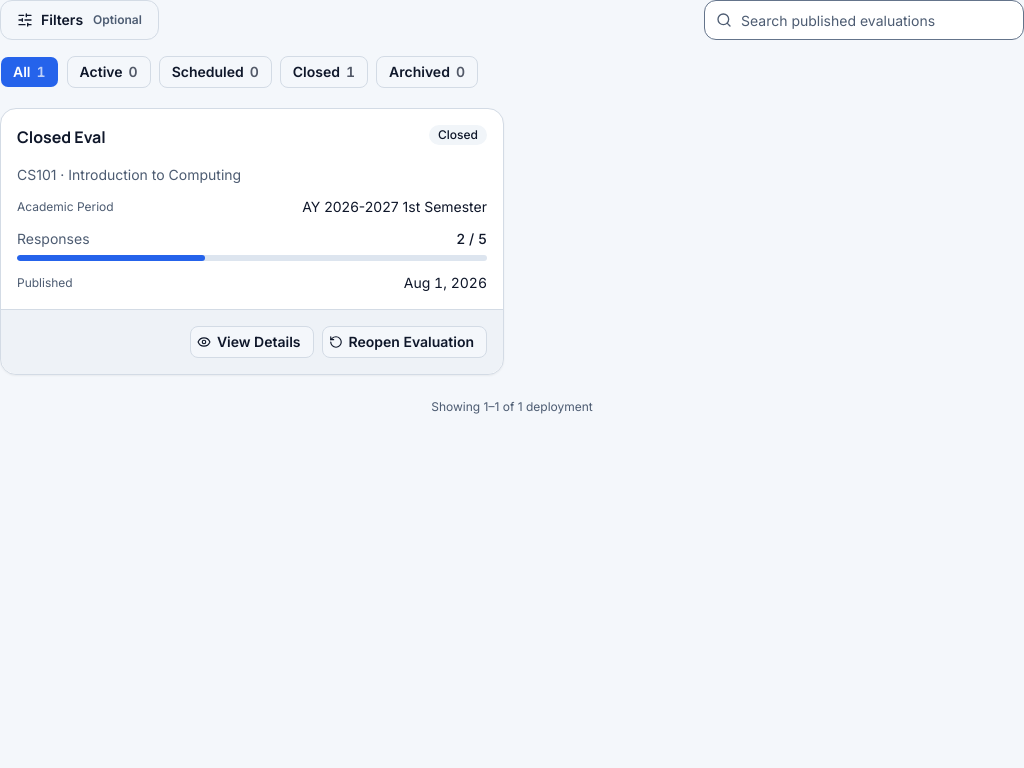
Test: FacultyPublishedEvaluations › requires a new deadline and reopens a closed evaluation
The image size is (1024, 768).
Step 1. Click the button "Reopen Evaluation" → {"x": 404, "y": 342}, box [322, 326, 487, 358]
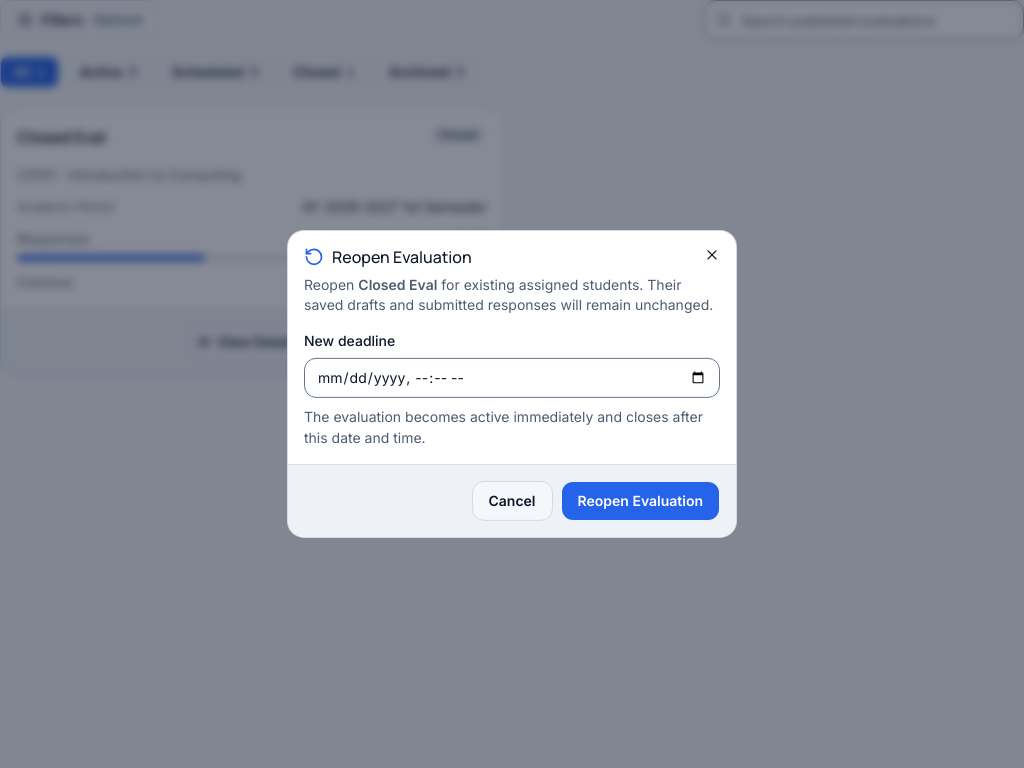
Step 2. Type "2000-01-01T00:00" into the field labelled "New deadline" → {"x": 512, "y": 378}, box [304, 358, 720, 398]
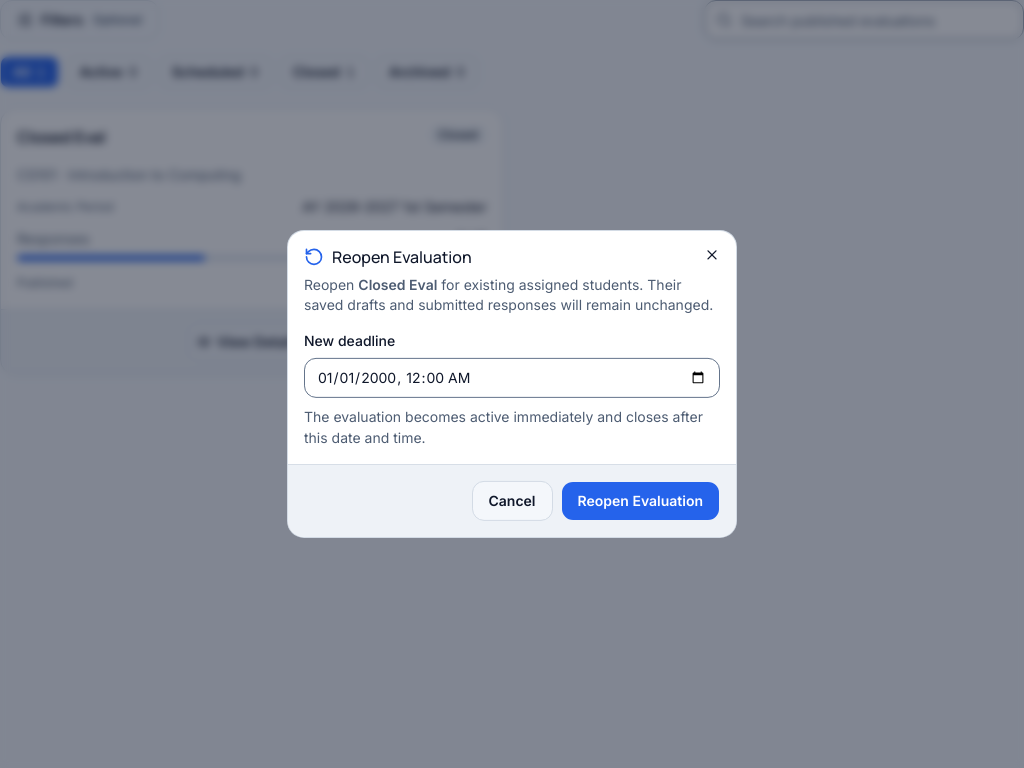
Step 3. Click the button "Reopen Evaluation" → {"x": 640, "y": 501}, box [560, 481, 720, 521]
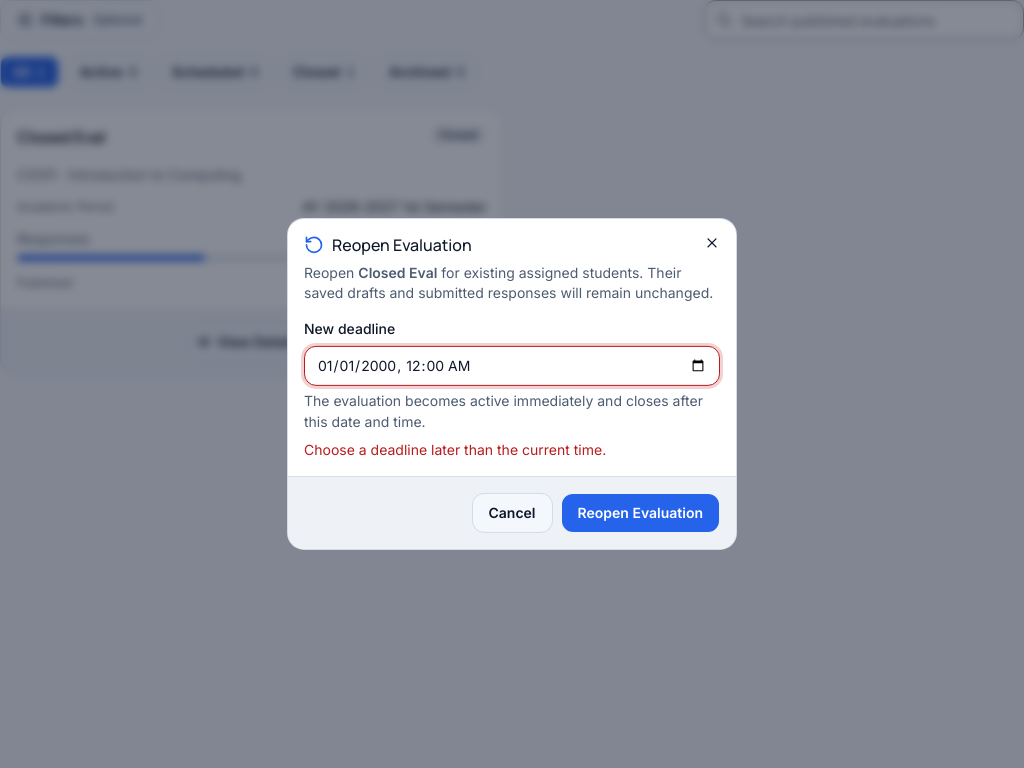
Result: the message shows "Choose a deadline" at [304, 441, 606, 458]
Step 4. Replace the text in the field labelled "New deadline" with "2099-09-10T09:00" → {"x": 512, "y": 366}, box [304, 346, 720, 386]
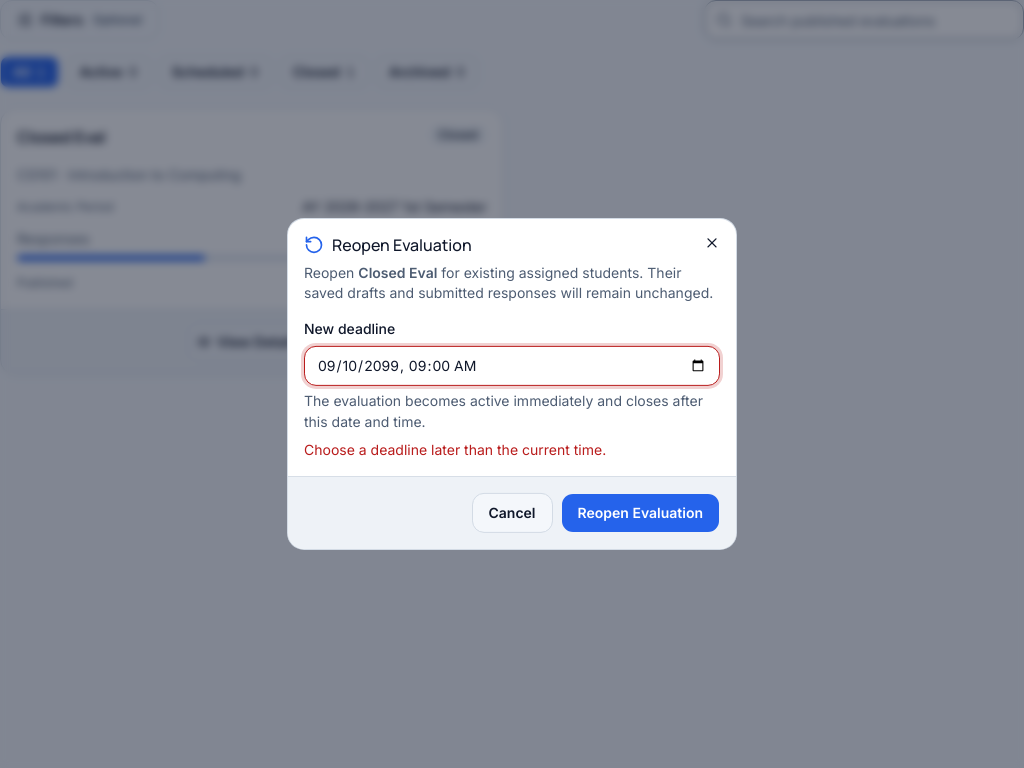
Step 5. Click the button "Reopen Evaluation" → {"x": 640, "y": 513}, box [560, 493, 720, 533]
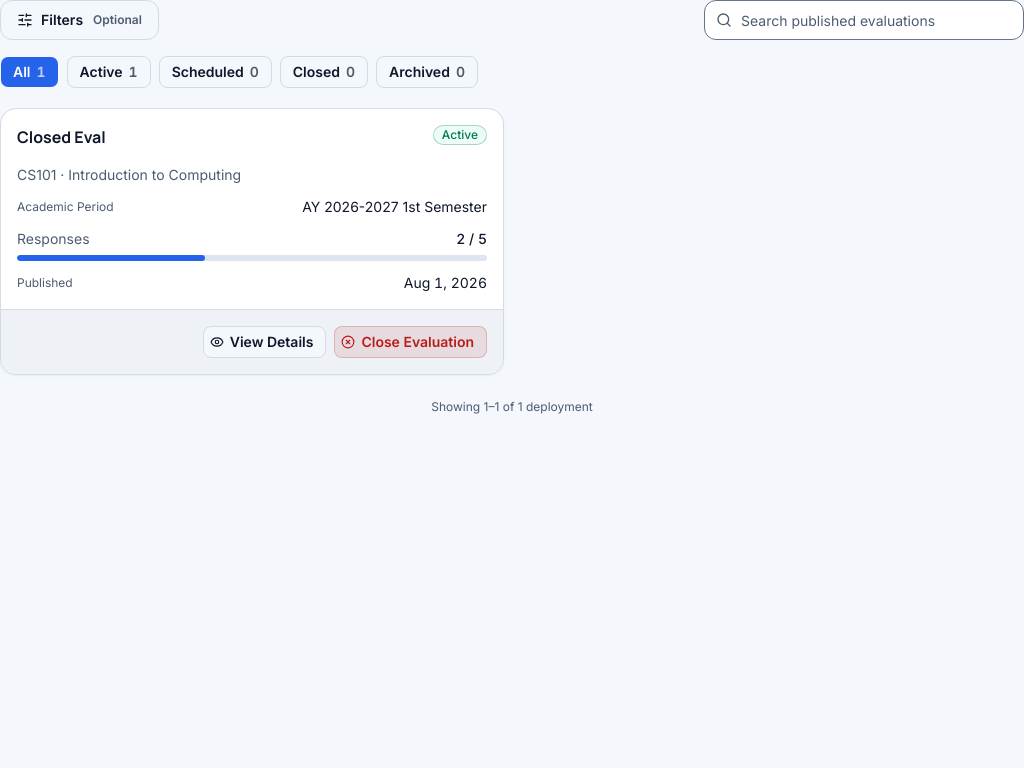
Result: the dialog is gone
